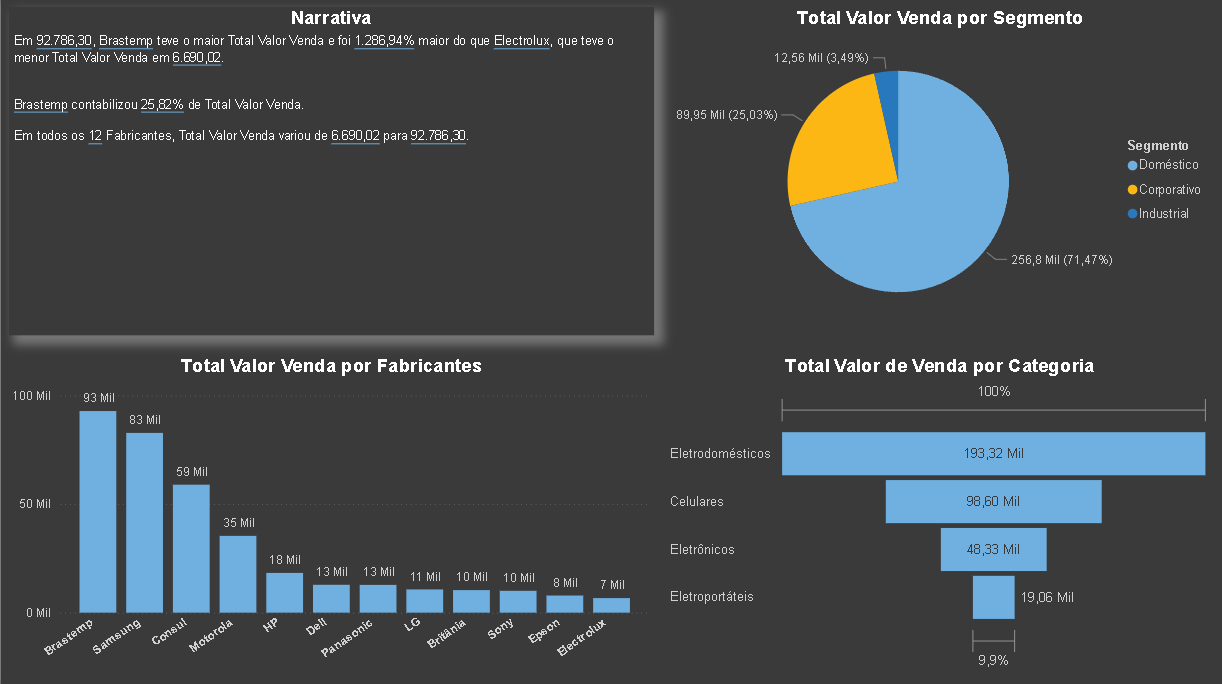

The page's visual inventory and layout, read from the dashboard file:
{"tool":"powerbi","page":{"name":"Narrative Inteligente","canvas":[1280,720],"ordinal":1},"visuals":[{"type":"pieChart","fields":{"Category":["Vendas.Segmento"],"Y":["Sum(Vendas.ValorVenda)"]},"box":[691.7,11.5,572.9,341.7],"z":0},{"type":"clusteredColumnChart","fields":{"Category":["Vendas.Fabricante"],"Y":["Sum(Vendas.ValorVenda)"]},"box":[8.3,374,671.9,334.4],"z":1000},{"type":"funnel","fields":{"Category":["Vendas.Categoria"],"Y":["Sum(Vendas.ValorVenda)"]},"box":[691.7,374,572.9,333.3],"z":2000},{"type":"textbox","title":"Narrativa","box":[8,11,672,342],"z":3000}]}

Visuals, with their boxes in screenshot pixels (x1, y1, x2, y2), scaled from the page's 1280x720 canvas onto the 1222x684 screenshot:
pieChart - Vendas.Segmento x Sum(Vendas.ValorVenda): [x1=660, y1=11, x2=1207, y2=336]
clusteredColumnChart - Vendas.Fabricante x Sum(Vendas.ValorVenda): [x1=8, y1=355, x2=649, y2=673]
funnel - Vendas.Categoria x Sum(Vendas.ValorVenda): [x1=660, y1=355, x2=1207, y2=672]
"Narrativa" textbox: [x1=8, y1=10, x2=649, y2=335]
